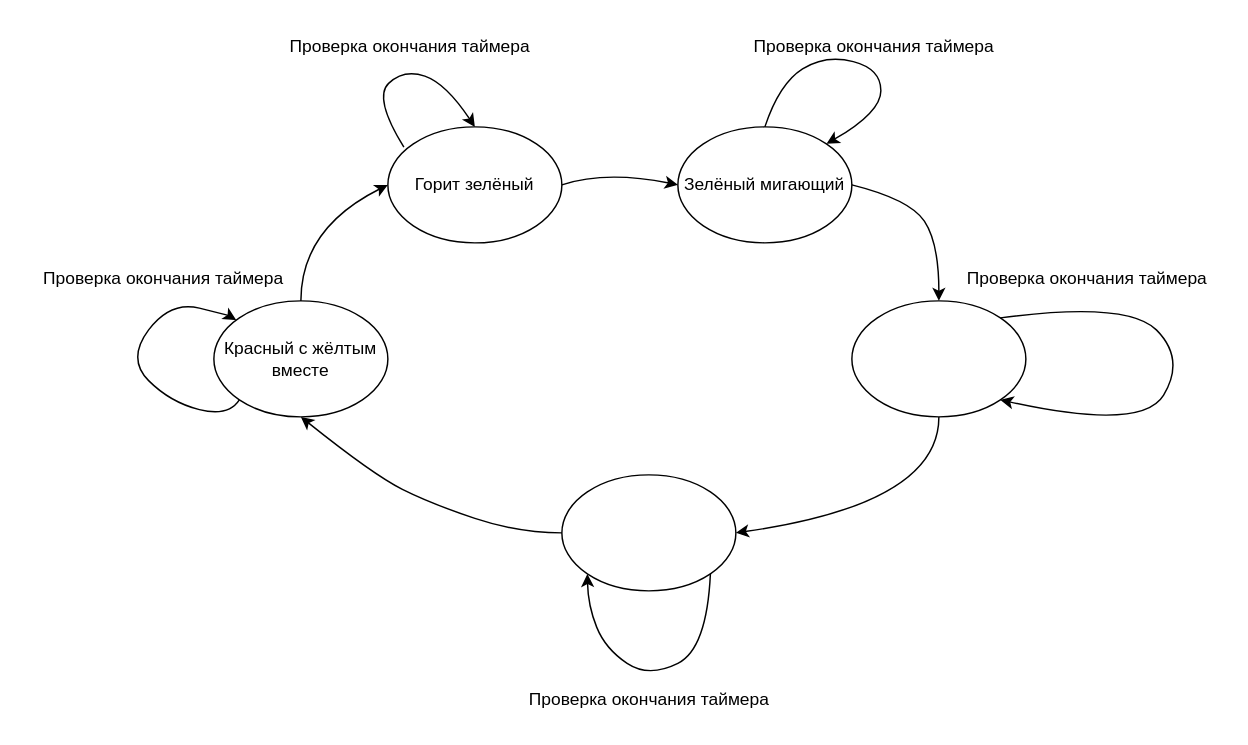
Image size: 1248x745. Some labels were removed from this diagram. The centre of each missing label's shape, as x and y in pixels:
"Горит красный" goes at (x=648, y=532).
"Жёлтый" goes at (x=938, y=358).
